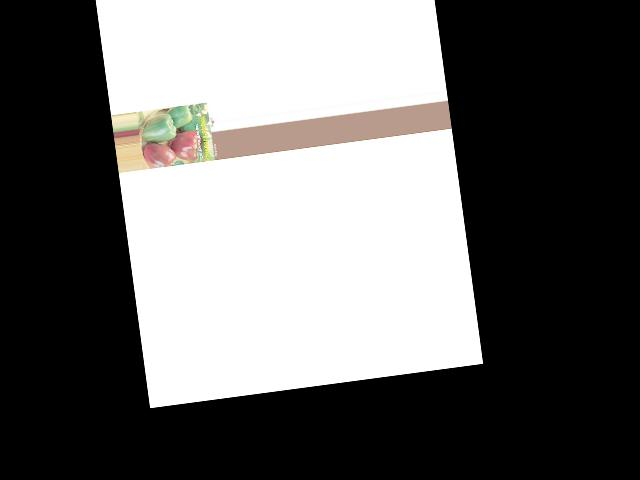bell_pepper: (162, 103, 195, 127)
